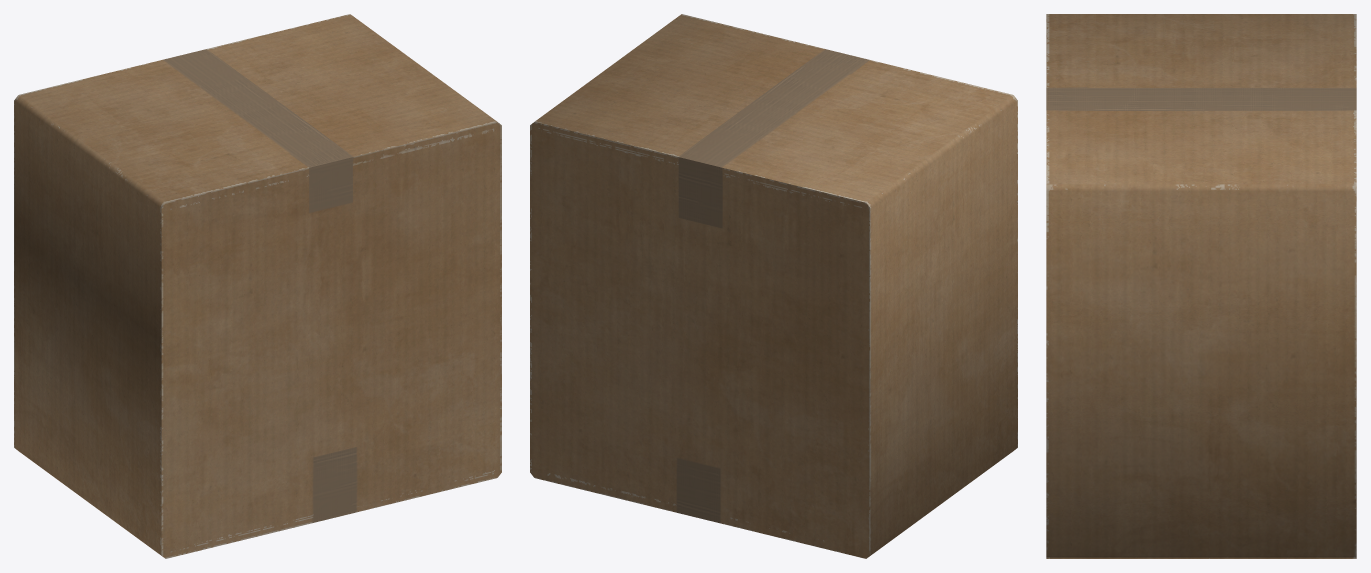
Rendered from SM_CardboardBox_02.fbx.
3 views of the same model, side by side, from view 1: azimuth 30°, elevation 25°; view 2: azimuth 150°, elevation 25°; view 3: azimuth 270°, elevation 25° (orthographic). The views are drawn at different scales.
Parts seen in each view (by area): view 1: SM_CardboardBox_02_LOD0; view 2: SM_CardboardBox_02_LOD0; view 3: SM_CardboardBox_02_LOD0.
Boxes of the visible parts, left/top/right/bottom form: SM_CardboardBox_02_LOD0: left=14, top=14, right=501, bottom=558; SM_CardboardBox_02_LOD0: left=530, top=14, right=1017, bottom=558; SM_CardboardBox_02_LOD0: left=1046, top=14, right=1356, bottom=558.
Bounding box in the file's own units: 40 × 30 × 40.
1 material, 1 textured.
